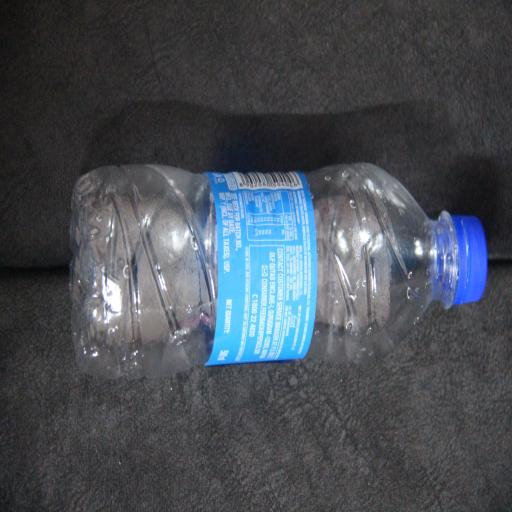Aquafina: (109, 36, 250, 512)
